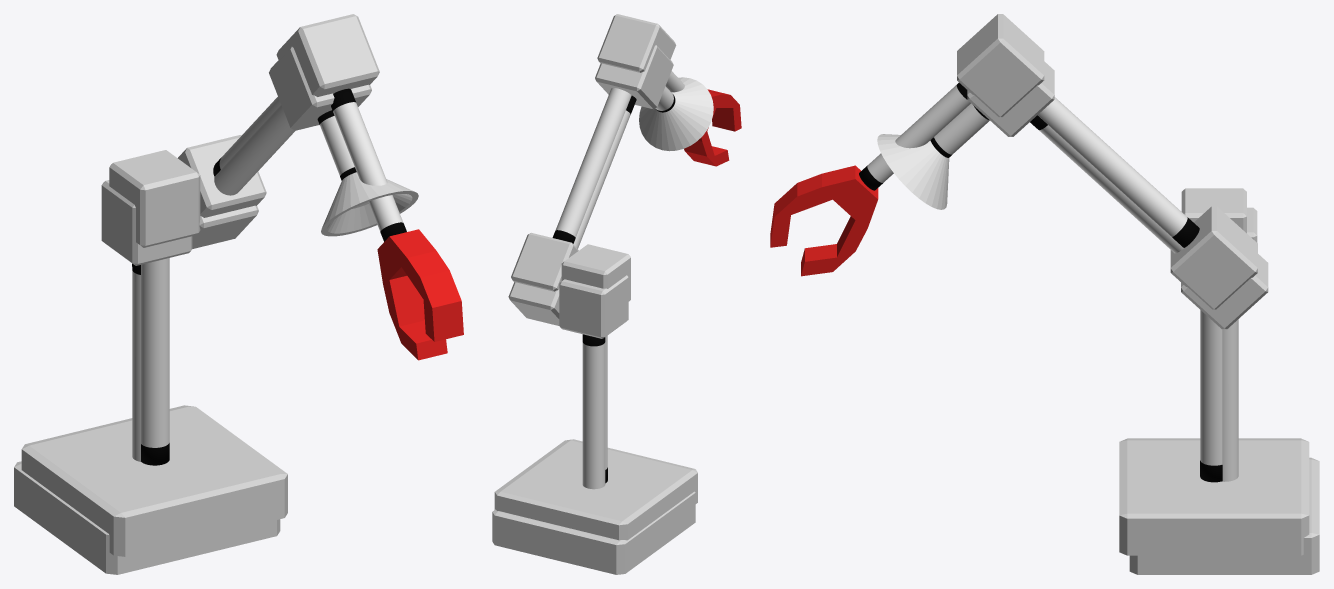
Rendered from arms.fbx.
3 views of the same model, side by side, from view 1: azimuth 30°, elevation 25°; view 2: azimuth 150°, elevation 25°; view 3: azimuth 270°, elevation 25° (orthographic). The views are drawn at different scales.
Parts seen in each view (by area): view 1: arms2, arms1; view 2: arms2, arms1; view 3: arms2, arms1.
Part boxes in pixels (bbox=[...]): arms2: bbox=[21, 14, 463, 556]; arms1: bbox=[14, 47, 418, 574]; arms2: bbox=[494, 14, 741, 540]; arms1: bbox=[492, 45, 713, 574]; arms2: bbox=[770, 14, 1309, 555]; arms1: bbox=[877, 61, 1319, 574].
Size of the model in its own units: 28.27 by 81.18 by 74.97.
